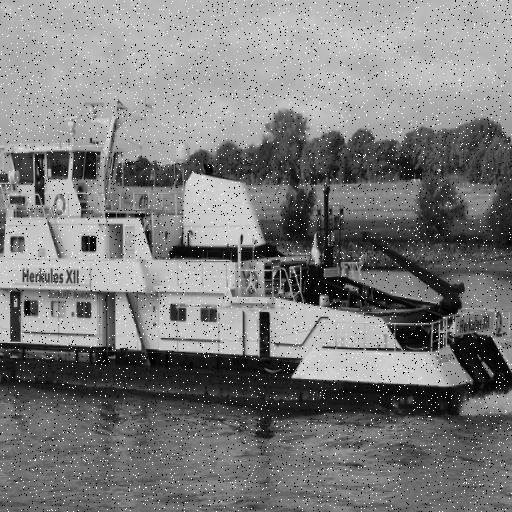tugboat: (1, 98, 512, 432)
